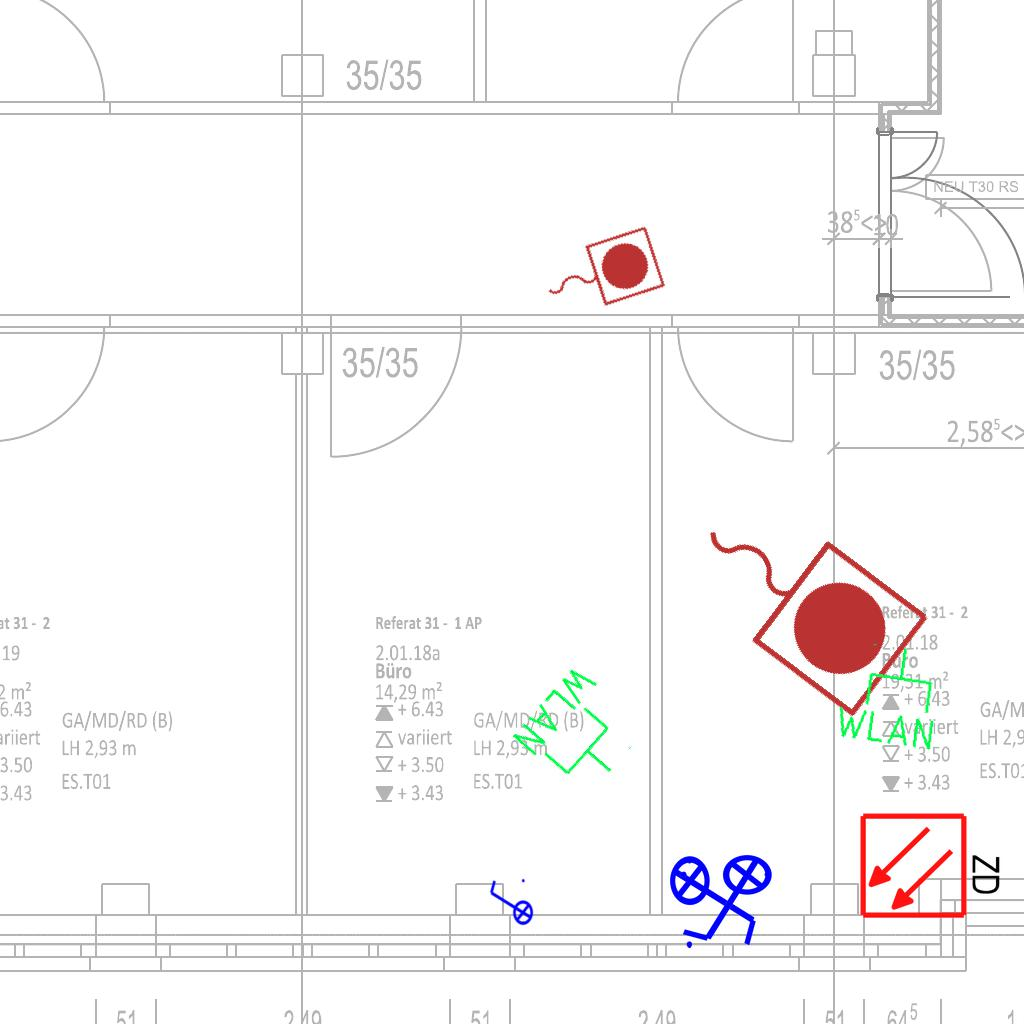Ausschalter_beleuchtet: (668, 842, 764, 954), (674, 853, 786, 949), (486, 876, 534, 932)
WLAN: (506, 657, 654, 806), (829, 636, 949, 755)
ZD_Melder_in_Zwischendecke_mit_Revisionsoeffnung_mind_40_x_40_cm: (858, 807, 1007, 921)
Zugtaster: (660, 466, 942, 728), (531, 219, 671, 327)
